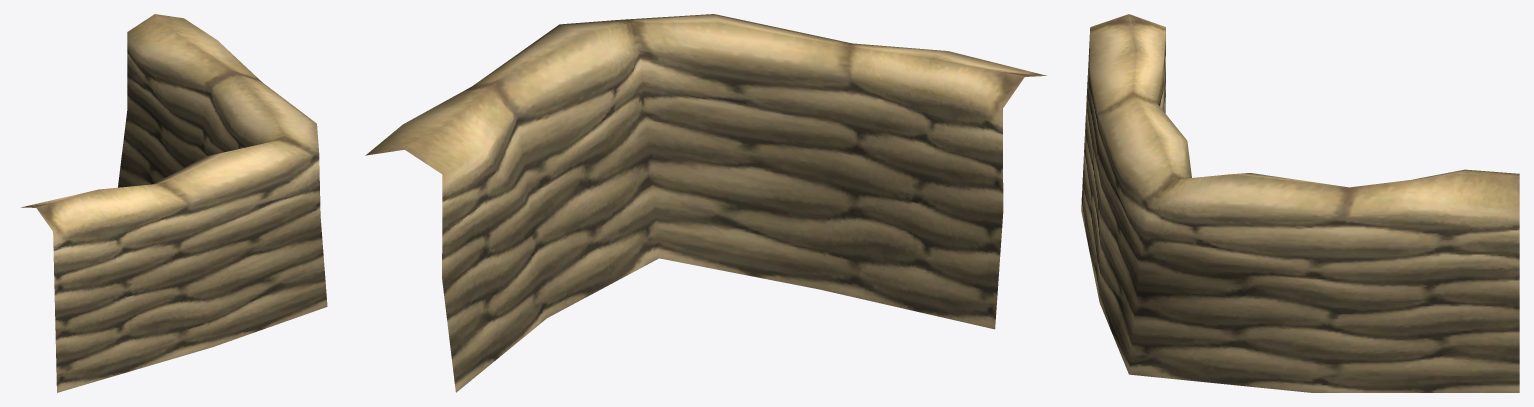
File: SandBags2_High_Corner.glb
The picture shows the model from 3 angles, left to right: view 1: azimuth 30°, elevation 25°; view 2: azimuth 150°, elevation 25°; view 3: azimuth 270°, elevation 25°; orthographic projection. The views are drawn at different scales.
Visible parts, largest first — view 1: SANDBAGS2_HIGH_CORNER; view 2: SANDBAGS2_HIGH_CORNER; view 3: SANDBAGS2_HIGH_CORNER.
Boxes of the visible parts, x1,y1,x2,y2 form: SANDBAGS2_HIGH_CORNER: [21, 14, 327, 392]; SANDBAGS2_HIGH_CORNER: [365, 14, 1046, 392]; SANDBAGS2_HIGH_CORNER: [1081, 14, 1519, 392].
Bounding box in the file's own units: 2.26 × 1.13 × 2.29.
Materials: 1 (1 with a texture image).
